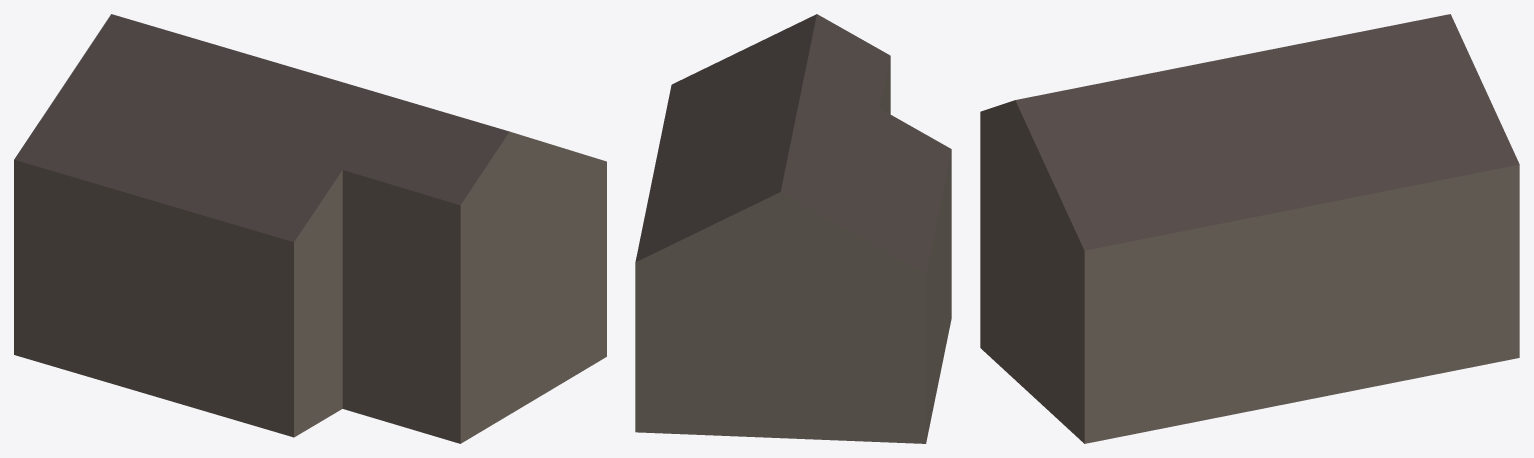
3 renders of one model, left to right at view 1: azimuth 30°, elevation 25°; view 2: azimuth 150°, elevation 25°; view 3: azimuth 270°, elevation 25°, orthographic. The views are drawn at different scales.
Parts seen in each view (by area): view 1: HP-w1198530145; view 2: HP-w1198530145; view 3: HP-w1198530145.
Part boxes in pixels (box(x1,y1,x2,y2)): HP-w1198530145: box(14, 14, 606, 443); HP-w1198530145: box(635, 14, 951, 443); HP-w1198530145: box(980, 14, 1519, 443).
Size of the model in its own units: 14.24 by 8.7 by 15.19.
